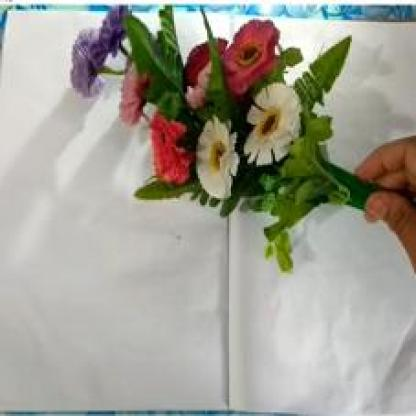flower: (69, 0, 413, 273)
